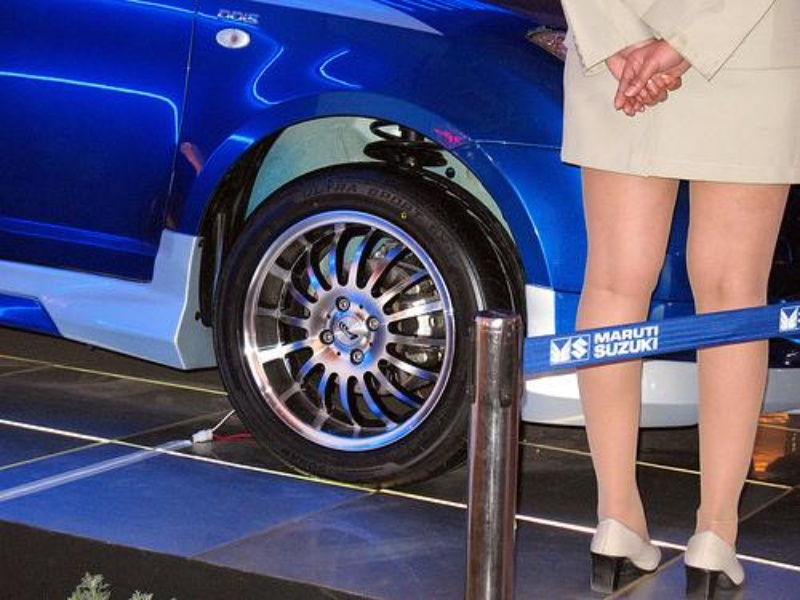hands: (601, 35, 687, 117)
